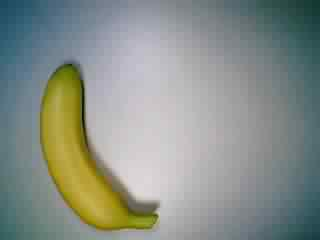banana: (35, 60, 167, 235)
